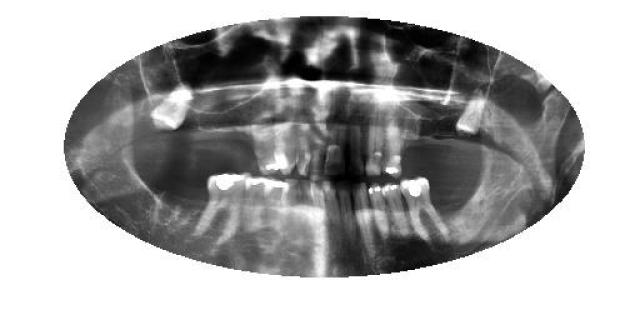Fillings: (195, 172, 246, 244), (400, 176, 450, 242), (384, 182, 410, 238), (368, 180, 390, 240), (382, 130, 403, 180)
